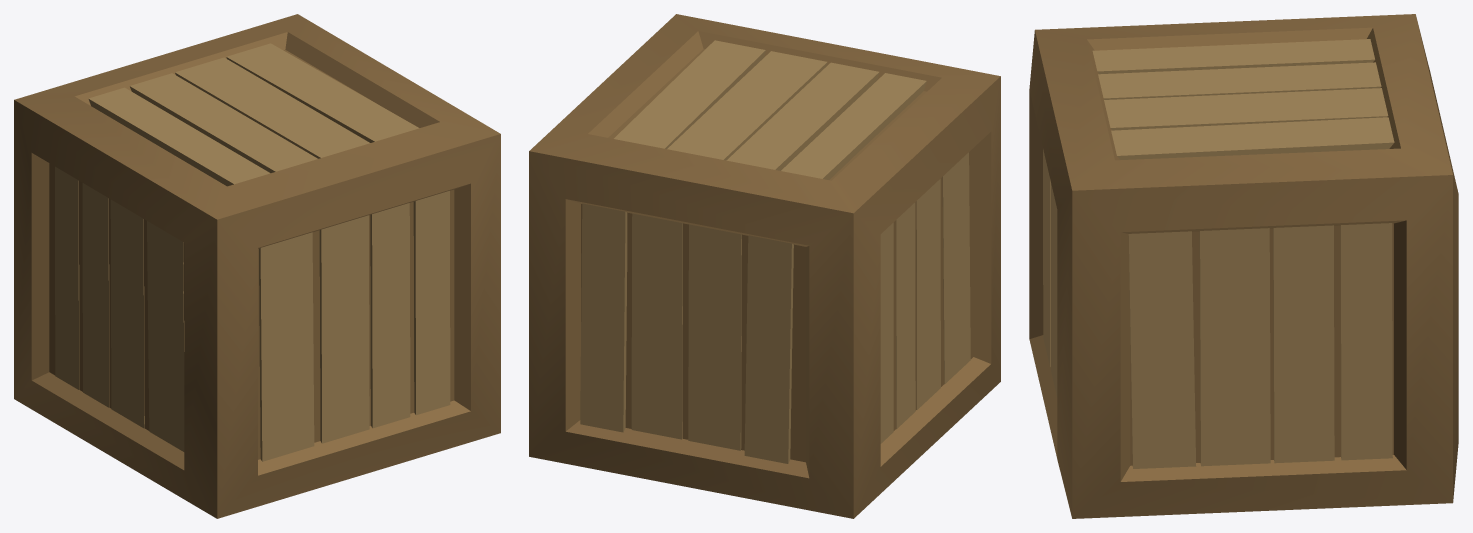
File: crate.glb
3 views of the same model, side by side, from view 1: azimuth 30°, elevation 25°; view 2: azimuth 150°, elevation 25°; view 3: azimuth 270°, elevation 25° (orthographic). The views are drawn at different scales.
Bounding box in the file's own units: 0.0975 × 0.0865 × 0.0975.
